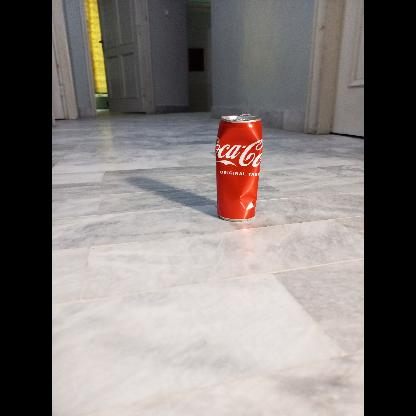Dent_Can: (216, 129, 262, 168), (240, 187, 256, 215)
Lid_Open: (230, 112, 250, 124)
Tin_Can: (212, 113, 265, 223)
